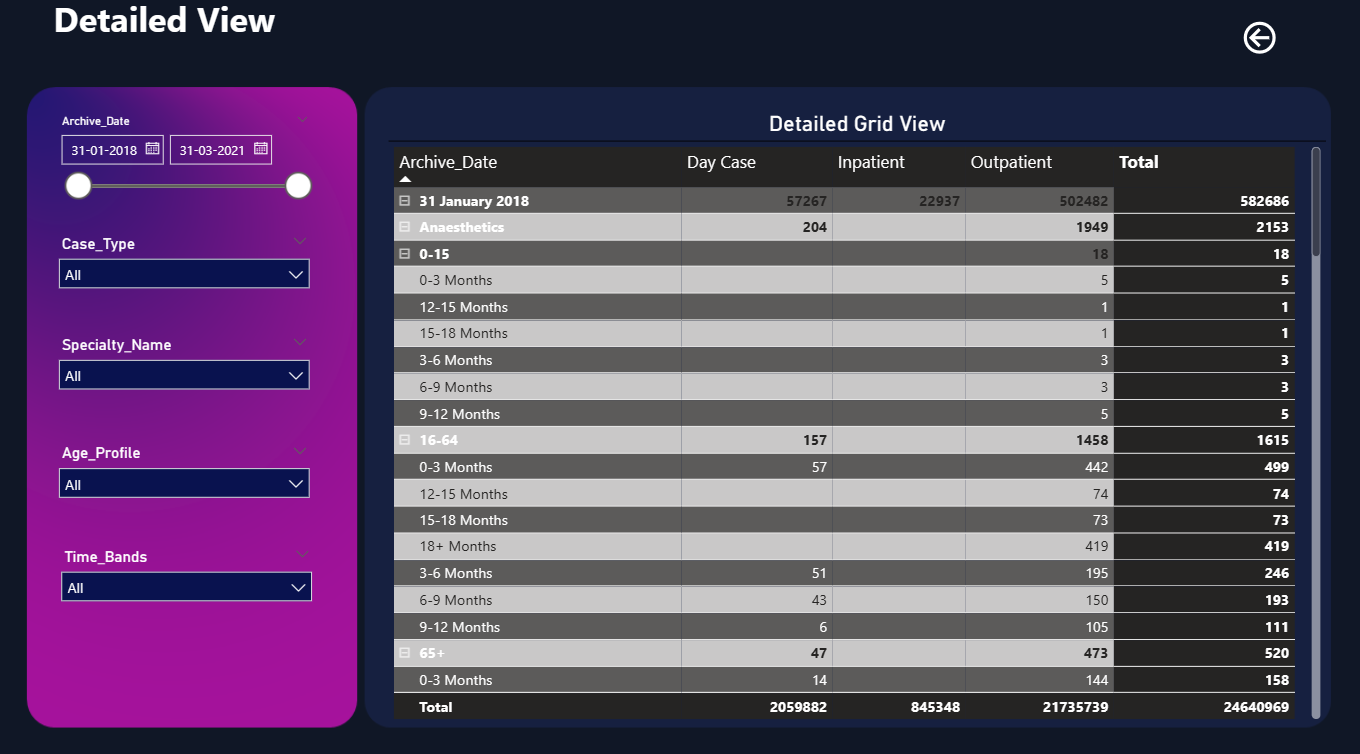

This screenshot's page, from the dashboard's own definition file:
{"tool":"powerbi","page":{"name":"Detail","canvas":[1280,720],"ordinal":1},"visuals":[{"type":"textbox","box":[48,0,352,64],"z":0},{"type":"slicer","fields":{"Values":["All_Data.Archive_Date"]},"box":[48,112,256,112],"z":1000},{"type":"slicer","fields":{"Values":["All_Data.Case_Type"]},"box":[48.2,224.8,255.3,94.7],"z":2000},{"type":"slicer","fields":{"Values":["All_Data.Specialty_Name"]},"box":[48.2,319.5,255.3,83.5],"z":3000},{"type":"slicer","fields":{"Values":["All_Data.Time_Bands"]},"box":[49.8,518.6,255.3,88.3],"z":4000},{"type":"slicer","fields":{"Values":["All_Data.Age_Profile"]},"box":[48.2,420.6,255.3,75.5],"z":5000},{"type":"pivotTable","title":"Detailed  Grid View","fields":{"Rows":["All_Data.Archive_Date","All_Data.Specialty_Name","All_Data.Age_Profile","All_Data.Time_Bands"],"Columns":["All_Data.Case_Type"],"Values":["Sum(All_Data.Total)"]},"box":[367.7,112.3,880,575.4],"z":6000},{"type":"actionButton","box":[1164.6,24.6,72.3,40],"z":7000}]}

Visuals, with their boxes in screenshot pixels (x1, y1, x2, y2), scaled from the page's 1280x720 canvas onto the 1360x754 screenshot:
textbox: <region>51, 0, 425, 67</region>
slicer - All_Data.Archive_Date: <region>51, 117, 323, 235</region>
slicer - All_Data.Case_Type: <region>51, 235, 322, 335</region>
slicer - All_Data.Specialty_Name: <region>51, 335, 322, 422</region>
slicer - All_Data.Time_Bands: <region>53, 543, 324, 636</region>
slicer - All_Data.Age_Profile: <region>51, 440, 322, 520</region>
"Detailed  Grid View" pivotTable: <region>391, 118, 1326, 720</region>
actionButton: <region>1237, 26, 1314, 68</region>
